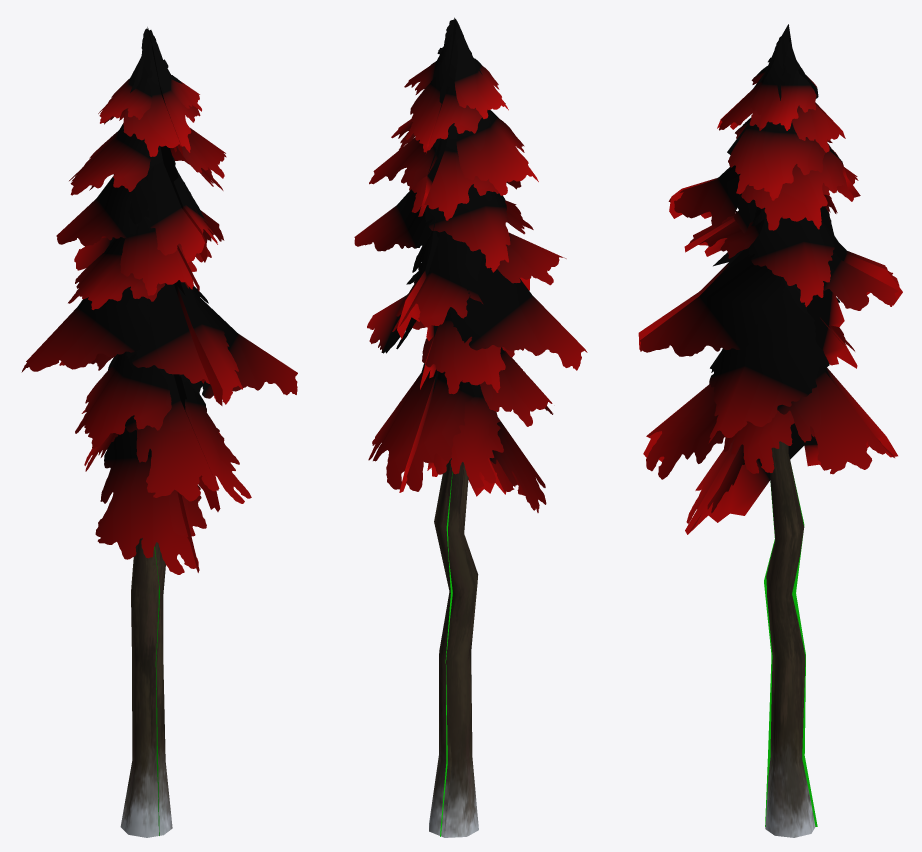
3 views of the same model, side by side, from view 1: azimuth 30°, elevation 25°; view 2: azimuth 150°, elevation 25°; view 3: azimuth 270°, elevation 25° (orthographic).
Visible parts, largest first — view 1: Циліндр.003, Площина.009; view 2: Циліндр.003, Площина.009; view 3: Циліндр.003, Площина.009.
Part boxes in pixels (left/top/right/bottom): Циліндр.003: left=21, top=28, right=297, bottom=837; Площина.009: left=101, top=27, right=222, bottom=835; Циліндр.003: left=354, top=19, right=587, bottom=837; Площина.009: left=397, top=17, right=529, bottom=836; Циліндр.003: left=640, top=27, right=899, bottom=837; Площина.009: left=638, top=24, right=902, bottom=826.
Size of the model in its own units: 64.1 by 187 by 59.15.
